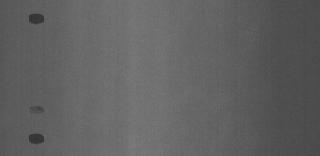oil spot: (27, 132, 46, 146), (27, 11, 45, 25), (29, 105, 45, 115)
